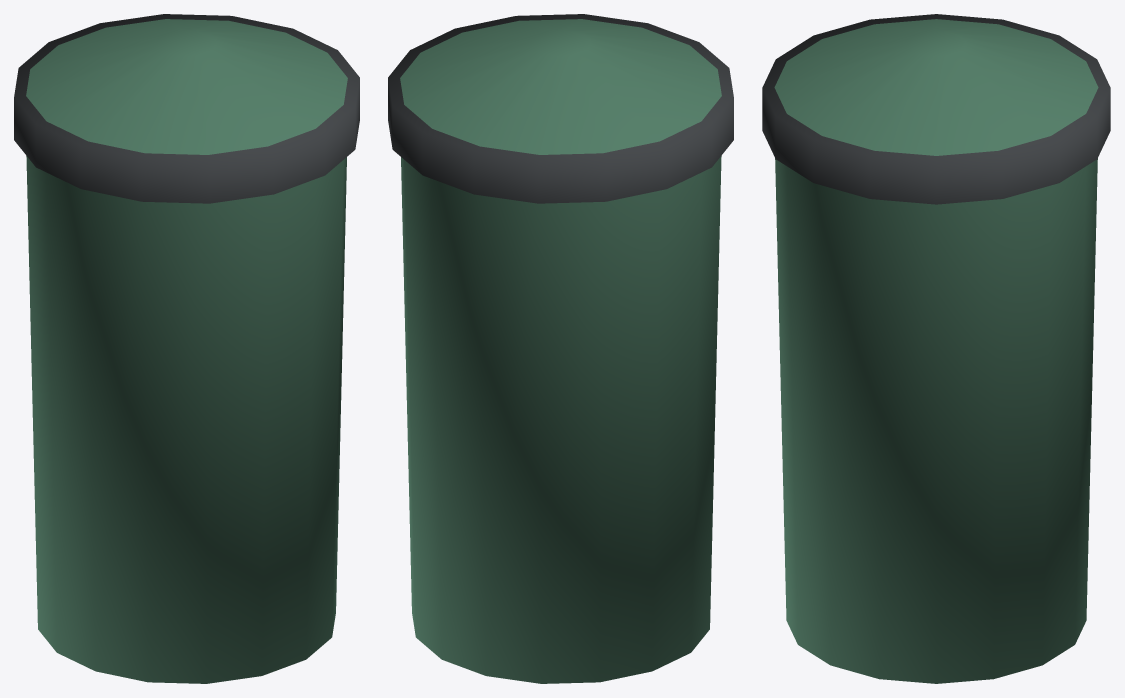
Rendered from bin.glb.
3 views of the same model, side by side, from view 1: azimuth 30°, elevation 25°; view 2: azimuth 150°, elevation 25°; view 3: azimuth 270°, elevation 25° (orthographic).
Visible parts, largest first — view 1: bin; view 2: bin; view 3: bin.
Part boxes in pixels (x1=…): bin: x1=14, y1=14, x2=359, y2=683; bin: x1=388, y1=14, x2=733, y2=683; bin: x1=762, y1=14, x2=1110, y2=683.
Bounding box in the file's own units: 0.58 × 1.06 × 0.58.
